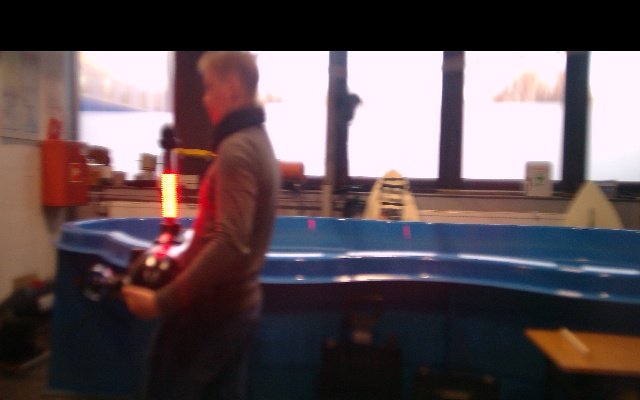red: (160, 172, 178, 225)
